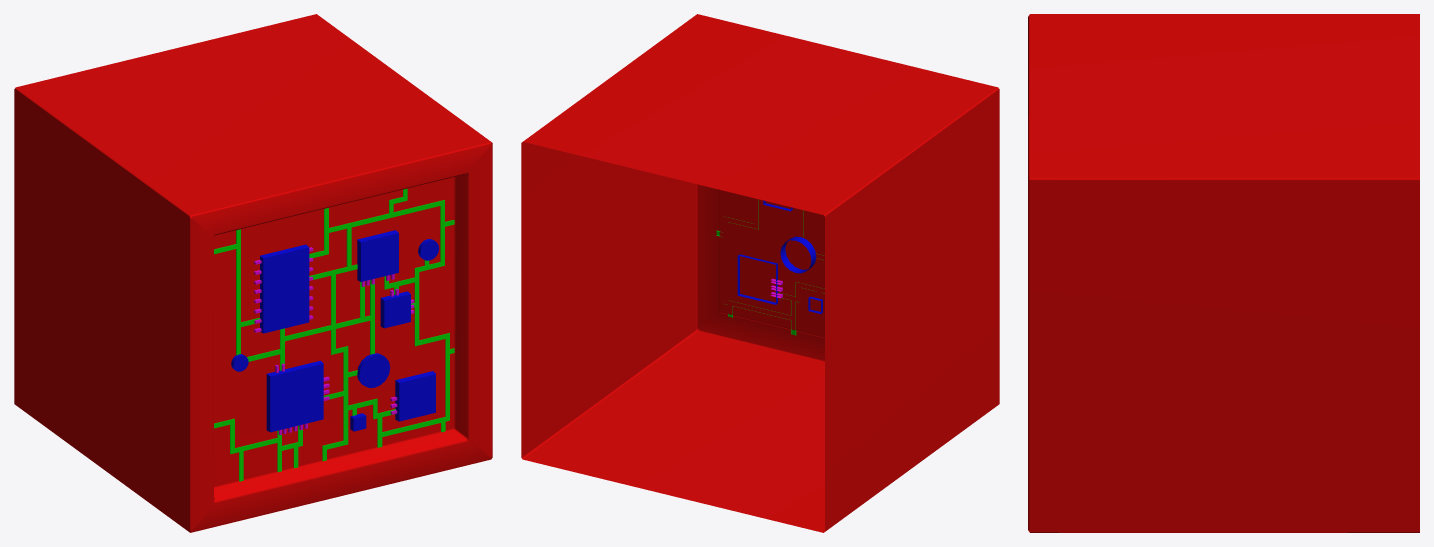
The model's file is block.fbx.
The picture shows the model from 3 angles, left to right: view 1: azimuth 30°, elevation 25°; view 2: azimuth 150°, elevation 25°; view 3: azimuth 270°, elevation 25°; orthographic projection. The views are drawn at different scales.
Visible parts, largest first — view 1: block_final; view 2: block_final; view 3: block_final.
Boxes of the visible parts, <box> form: block_final: <box>14,14,492,532</box>; block_final: <box>521,14,999,532</box>; block_final: <box>1028,14,1419,532</box>.
Bounding box in the file's own units: 1 × 1 × 1.
